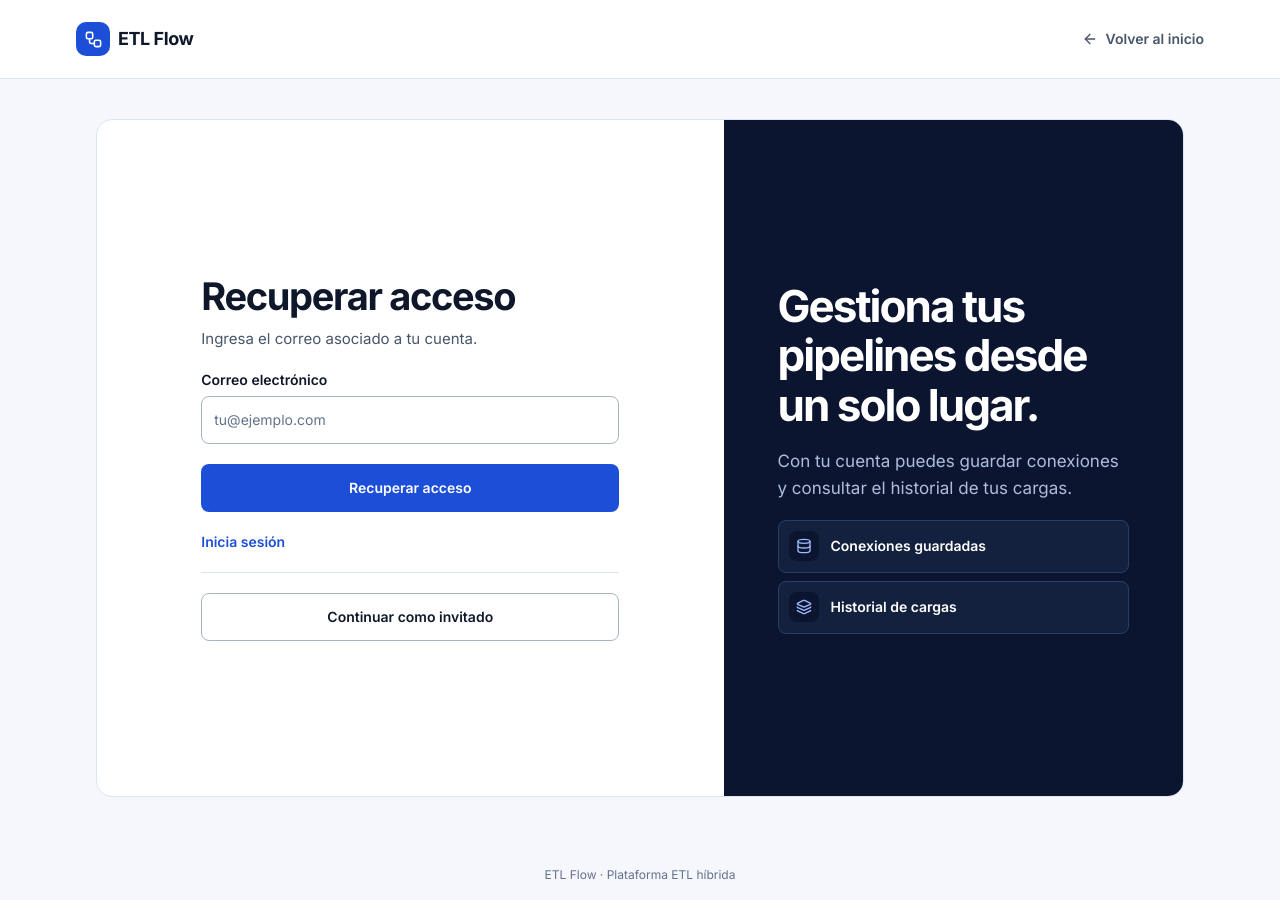
Test: account forms › handles password recovery without revealing account existence
Step 1. Type "person@example.com" into the field labelled "Correo electrónico" → [410, 420], box [201, 396, 619, 444]
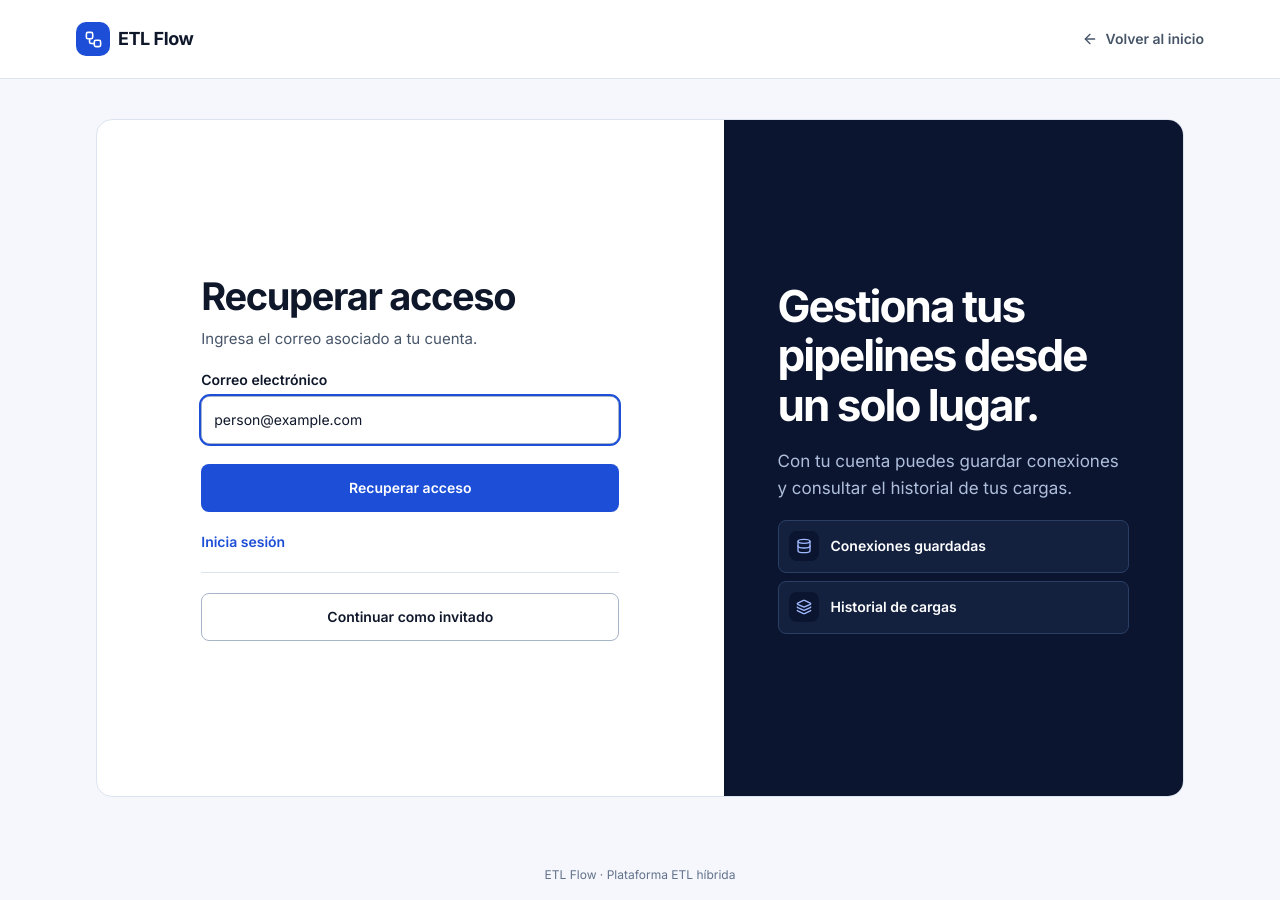
Step 2. Click the button "Recuperar acceso" → [410, 488], box [201, 464, 619, 512]
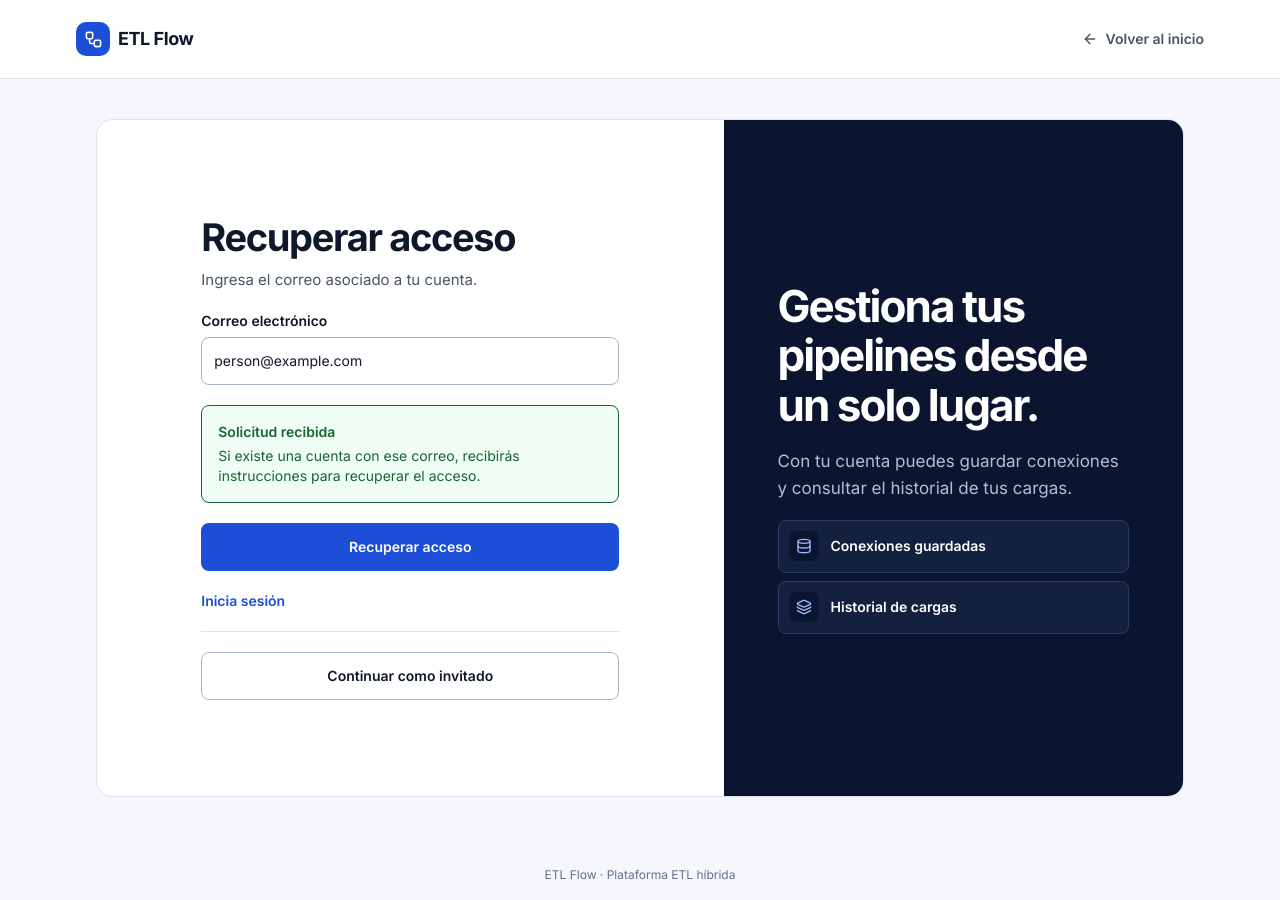
Check: the message does not show "private error", box [201, 405, 619, 503]
Check: the message shows "Si existe una cuenta", box [218, 447, 520, 484]
